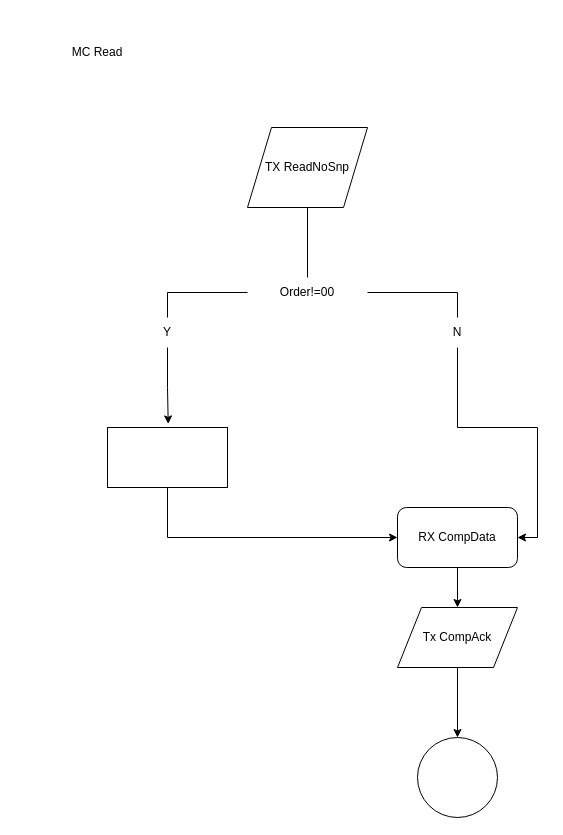
This 563x835 diagram has some shape labels left out. The box of each missing label's shape, as (x1, y1, x2, y2) in pixels:
Exit: (416, 736, 498, 818)
Wait ReadReceipt: (106, 426, 228, 488)
